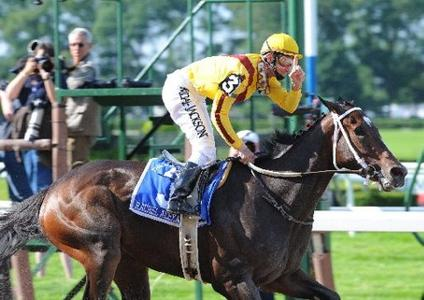person: (162, 31, 307, 214)
